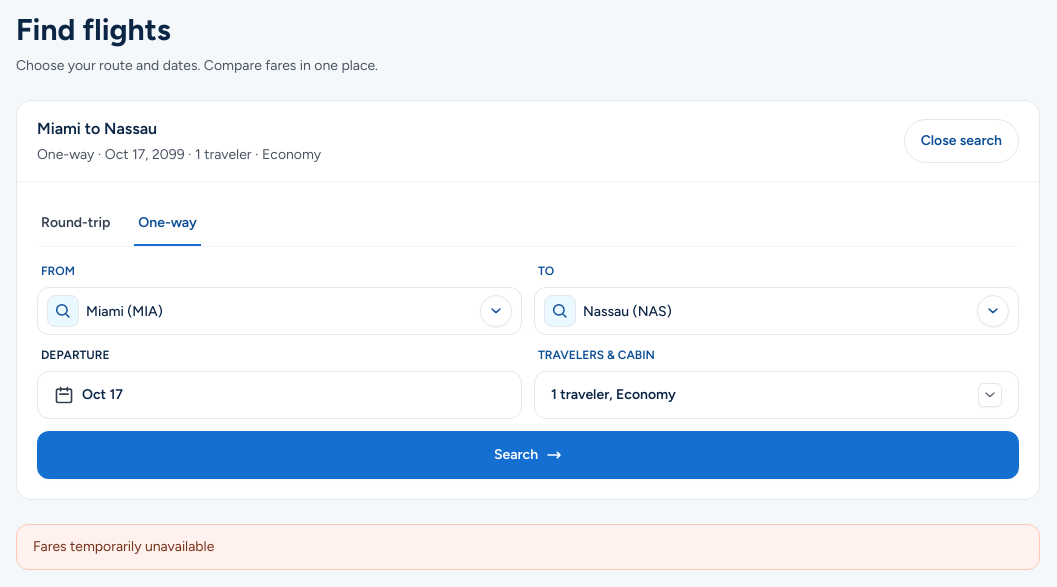
Test: FlightSearchClient marketplace layout › provider failure keeps inputs available for a successful retry
Expected: the message reads "Fares temporarily unavailable", [33,538,214,555]
Expected: the dropdown labelled "From" holds "Miami (MIA)", [37,287,522,335]
Click the button "Search" at (528, 455), box [37,431,1019,479]
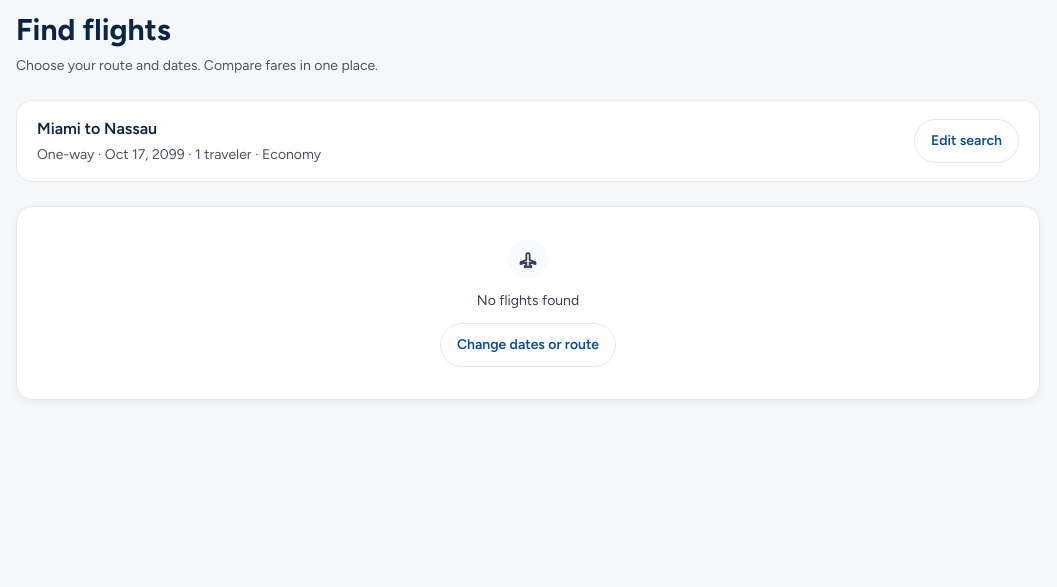
Expected: the text "No flights found" is shown, [477,292,579,309]
Expected: the message "Fares temporarily unavailable" is gone
